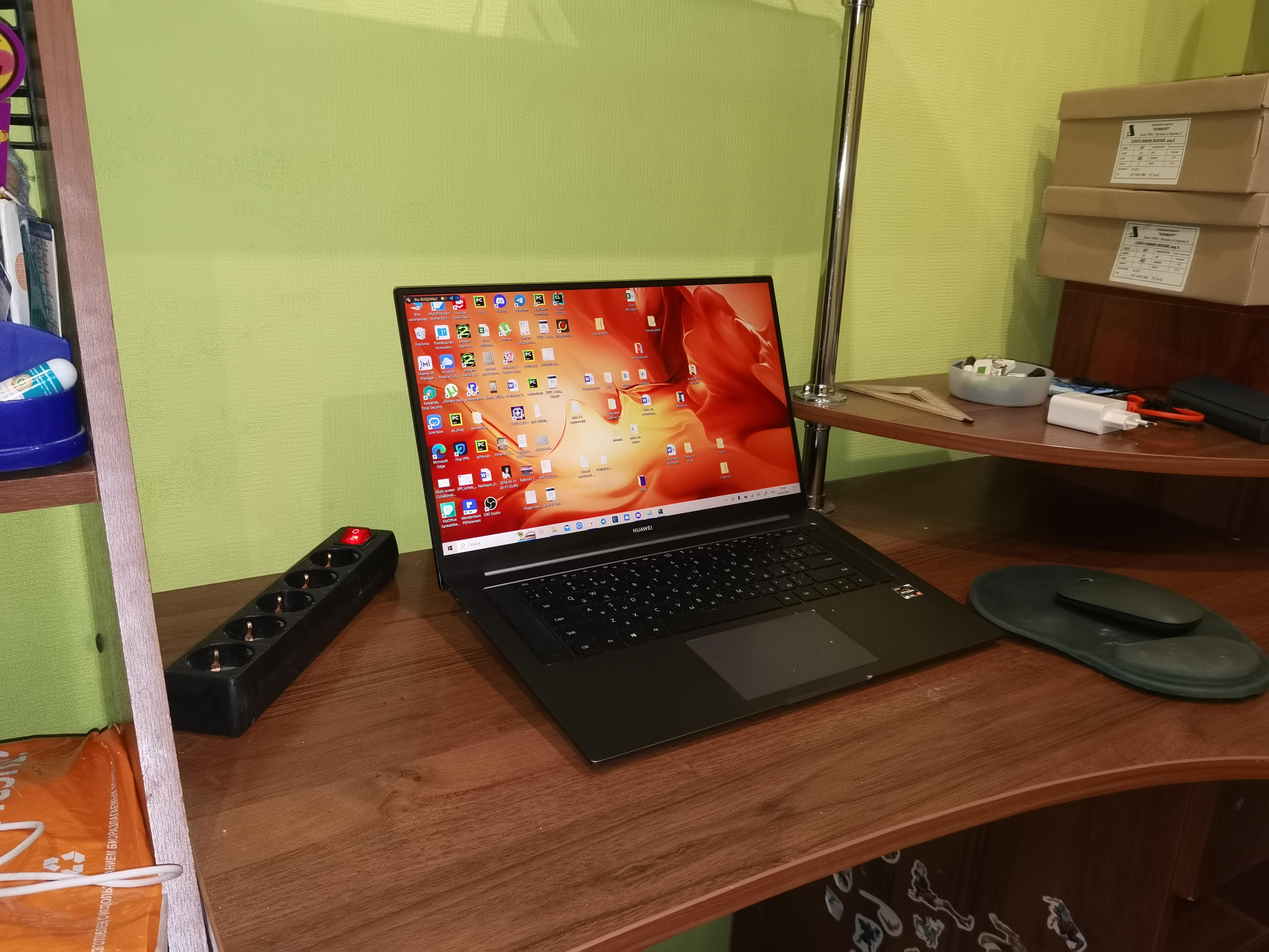monitor: (390, 270, 810, 585)
